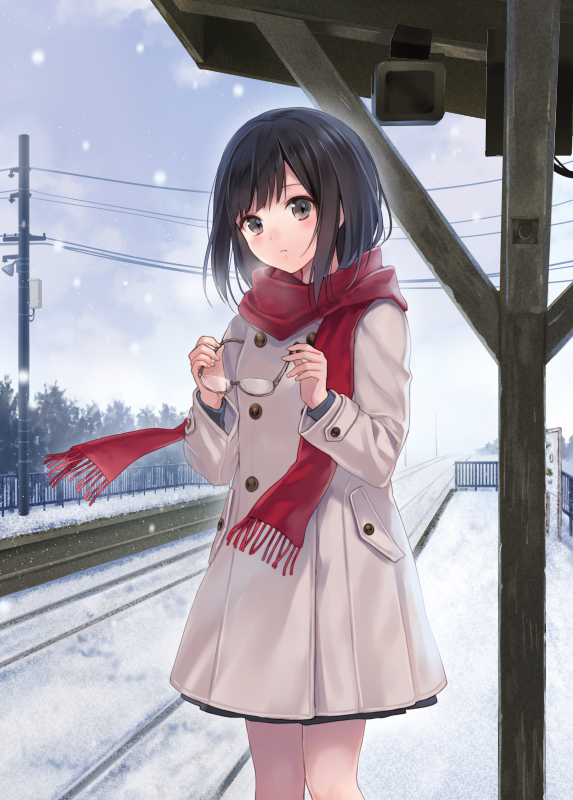纸片人正脸: (206, 105, 386, 280)
